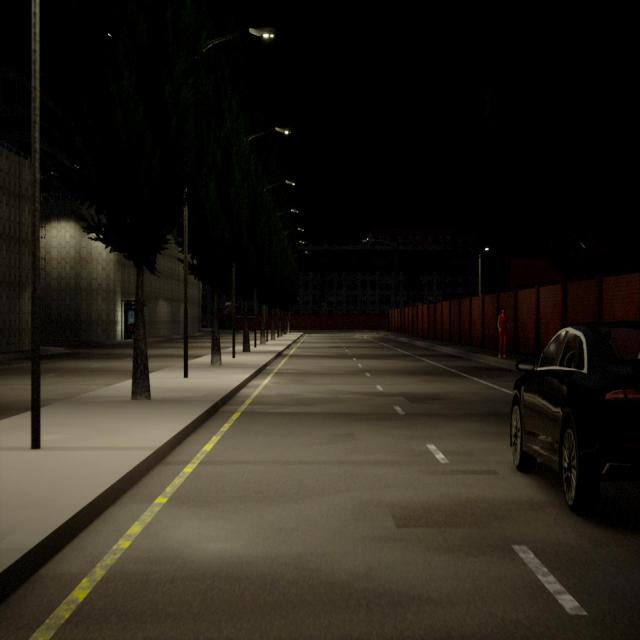Pedestrian: (497, 309, 508, 358)
Vehicle: (510, 326, 640, 508)
